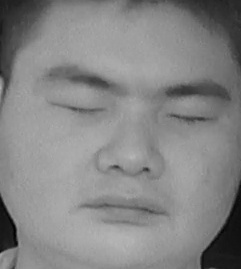blink: (45, 86, 103, 126), (166, 102, 217, 138)
mouth: (83, 186, 172, 230)
